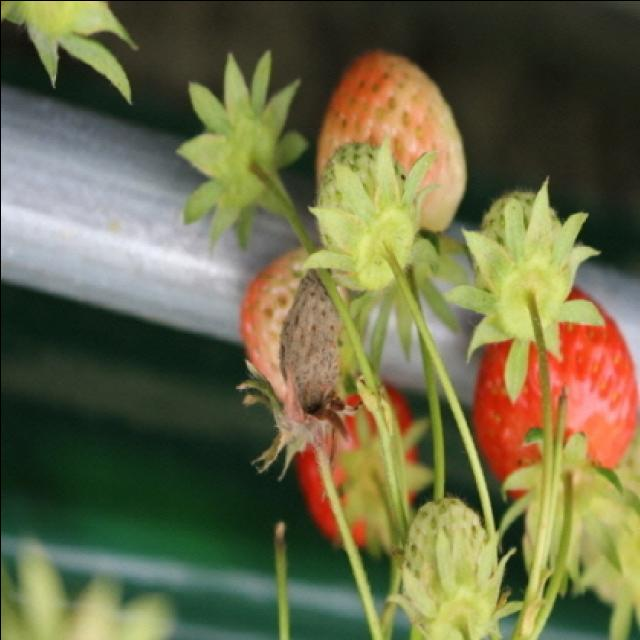Gray Mold: (234, 266, 363, 481)
